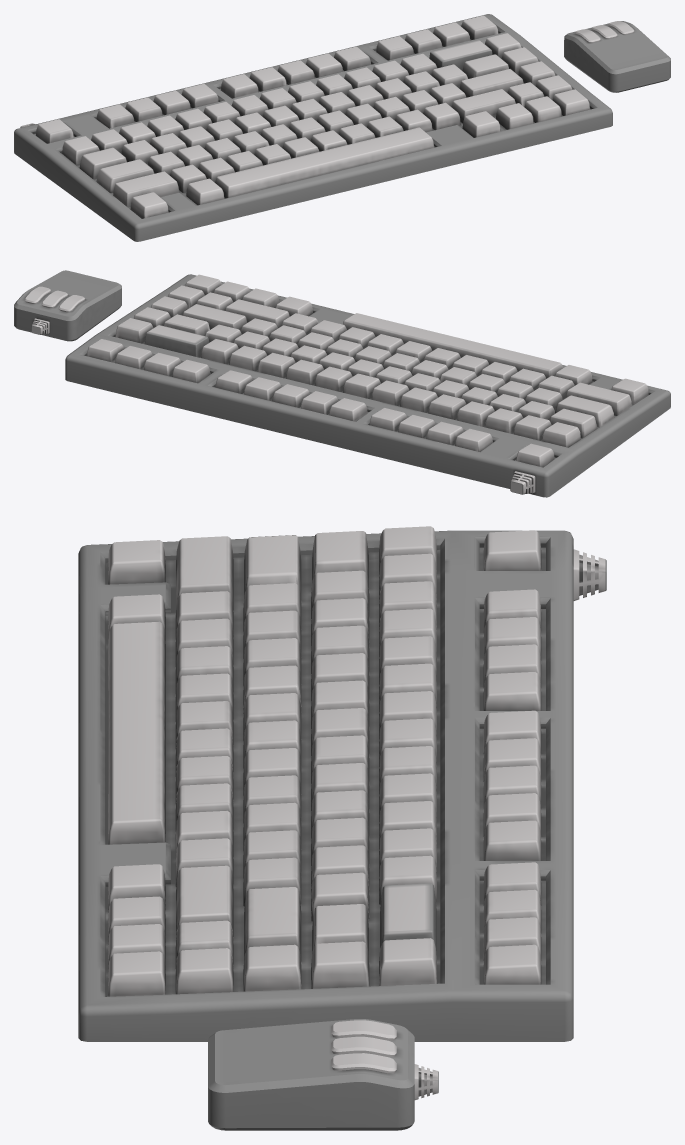
Rendered from SM_prop_Laboratory_Keyboard.fbx.
The picture shows the model from 3 angles, top to bottom: view 1: azimuth 30°, elevation 25°; view 2: azimuth 150°, elevation 25°; view 3: azimuth 270°, elevation 25°; orthographic projection. The views are drawn at different scales.
Parts seen in each view (by area): view 1: SM_prop_Laboratory_Keyboard; view 2: SM_prop_Laboratory_Keyboard; view 3: SM_prop_Laboratory_Keyboard.
Part boxes in pixels (x1,y1,x2,y2): SM_prop_Laboratory_Keyboard: (14, 14, 670, 241); SM_prop_Laboratory_Keyboard: (14, 270, 670, 497); SM_prop_Laboratory_Keyboard: (78, 526, 606, 1130).
Size of the model in its own units: 40.45 by 2.23 by 16.22.
1 material, 1 textured.
